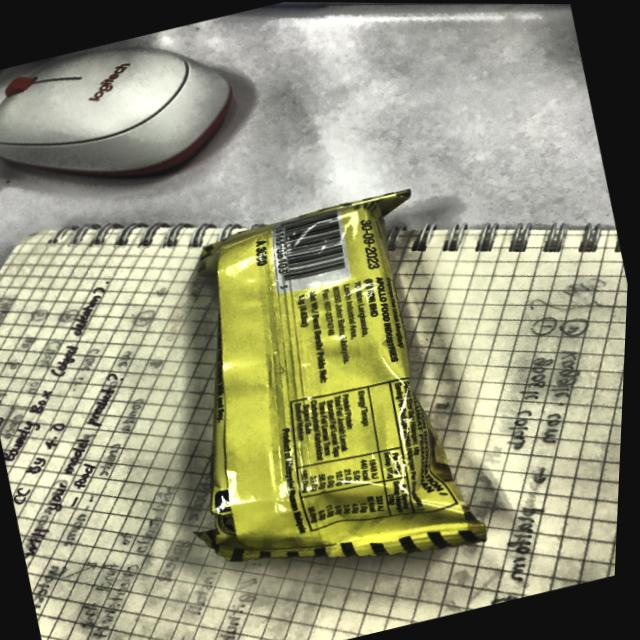Plastic: (175, 189, 492, 587)
